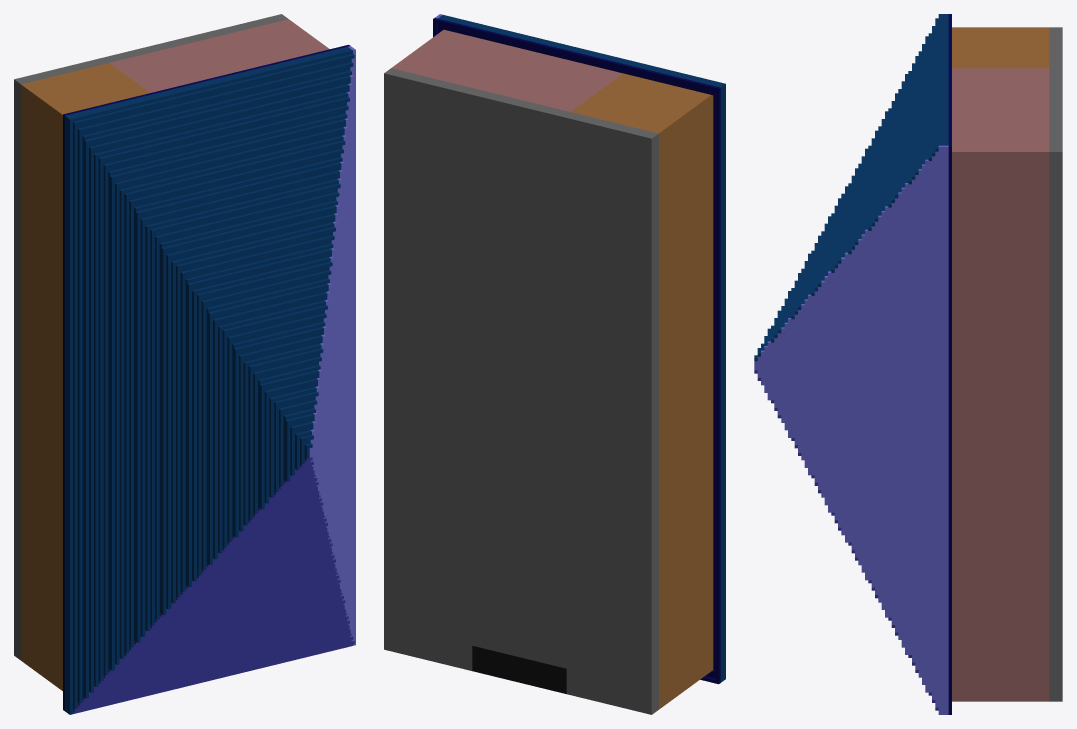
Rendered from blue_hall_1.obj.
3 views of the same model, side by side, from view 1: azimuth 30°, elevation 25°; view 2: azimuth 150°, elevation 25°; view 3: azimuth 270°, elevation 25° (orthographic). The views are drawn at different scales.
Size of the model in its own units: 9.4 by 18.7 by 9.2.
Materials: 1 (1 with a texture image).
